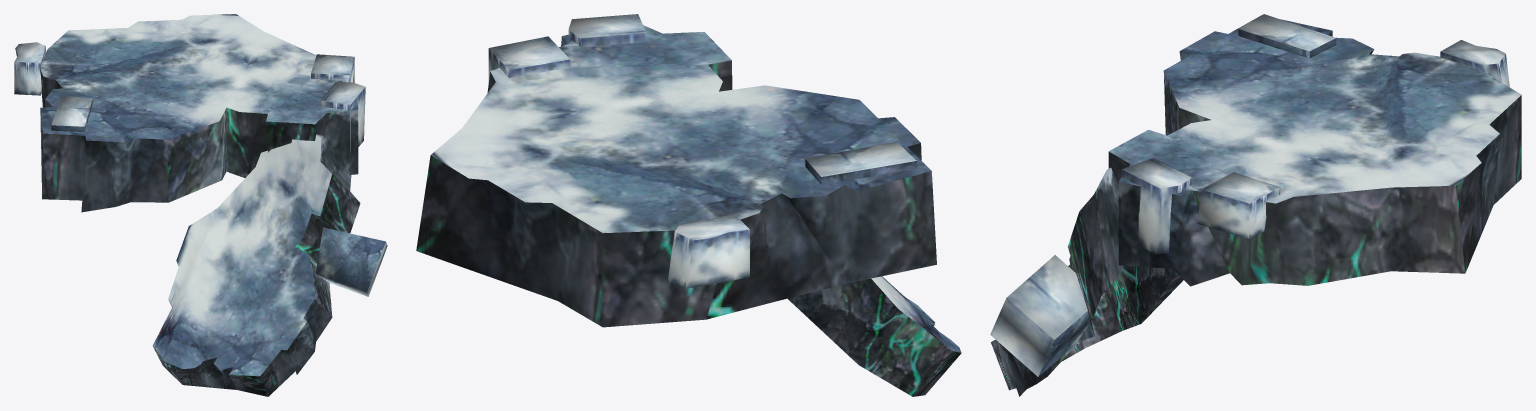
File: S_Build_Snowland208.FBX
3 views of the same model, side by side, from view 1: azimuth 30°, elevation 25°; view 2: azimuth 150°, elevation 25°; view 3: azimuth 270°, elevation 25° (orthographic). The views are drawn at different scales.
Parts seen in each view (by area): view 1: S_Build_Snowland208; view 2: S_Build_Snowland208; view 3: S_Build_Snowland208.
Part boxes in pixels (left/top/right/bottom): S_Build_Snowland208: left=14, top=14, right=387, bottom=396; S_Build_Snowland208: left=416, top=14, right=961, bottom=396; S_Build_Snowland208: left=990, top=14, right=1521, bottom=396.
Bounding box in the file's own units: 620 × 707 × 441.
